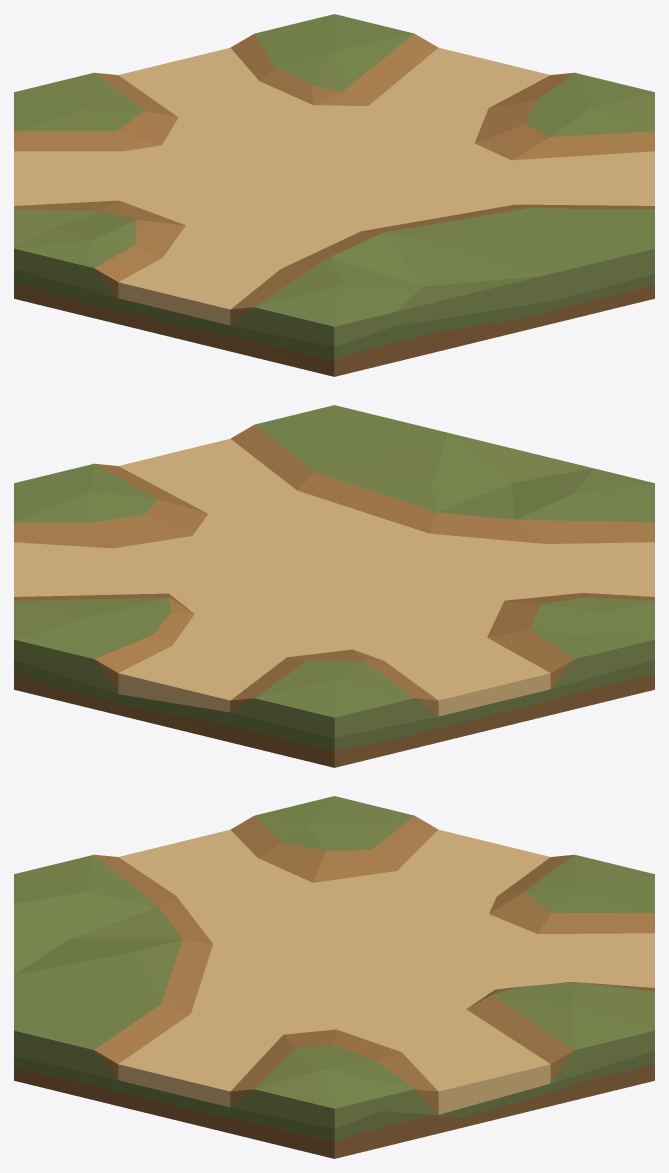
Rendered from SM_Tile_Hex_Path_09.glb.
The picture shows the model from 3 angles, top to bottom: view 1: azimuth 30°, elevation 25°; view 2: azimuth 150°, elevation 25°; view 3: azimuth 270°, elevation 25°; orthographic projection.
Parts seen in each view (by area): view 1: SM_Tile_Hex_Path_09; view 2: SM_Tile_Hex_Path_09; view 3: SM_Tile_Hex_Path_09.
Boxes of the visible parts, x1,y1,x2,y2 form: SM_Tile_Hex_Path_09: (14, 14, 654, 376); SM_Tile_Hex_Path_09: (14, 405, 654, 767); SM_Tile_Hex_Path_09: (14, 796, 654, 1158).
Bounding box in the file's own units: 5.77 × 0.4717 × 5.
1 material, 1 textured.
